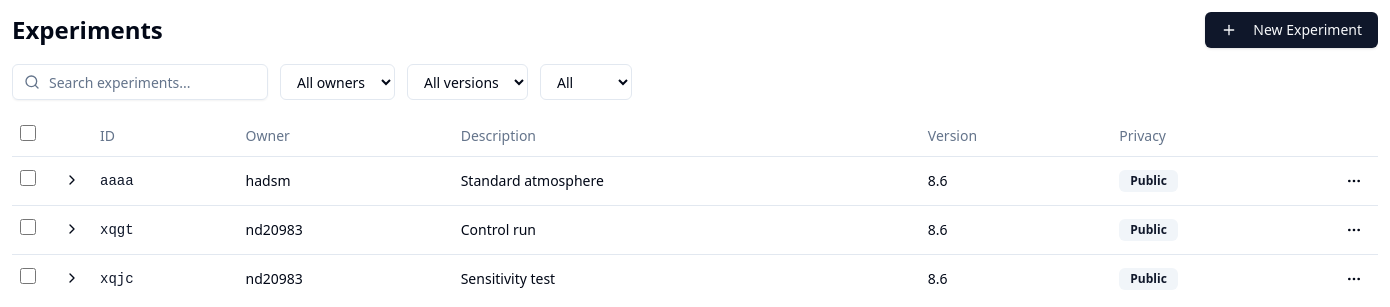
Scenario: ExplorerPage › filters experiments by search
This screenshot has width=1390, height=307.
Expected: the link "aaaa" is shown, [100,172,134,188]
Type "control" into the field labelled "Search" at (140,82), box [12,64,268,100]
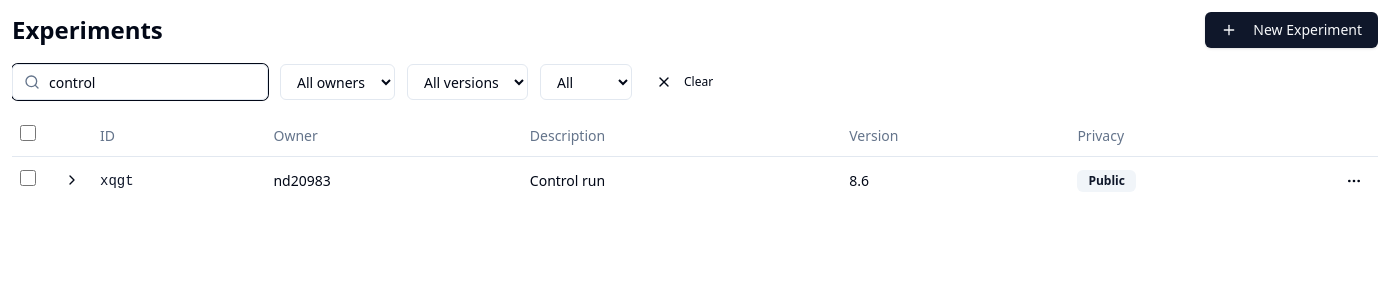
Expected: the link "xqgt" is shown, [100,172,134,188]
Now the link "aaaa" is gone
